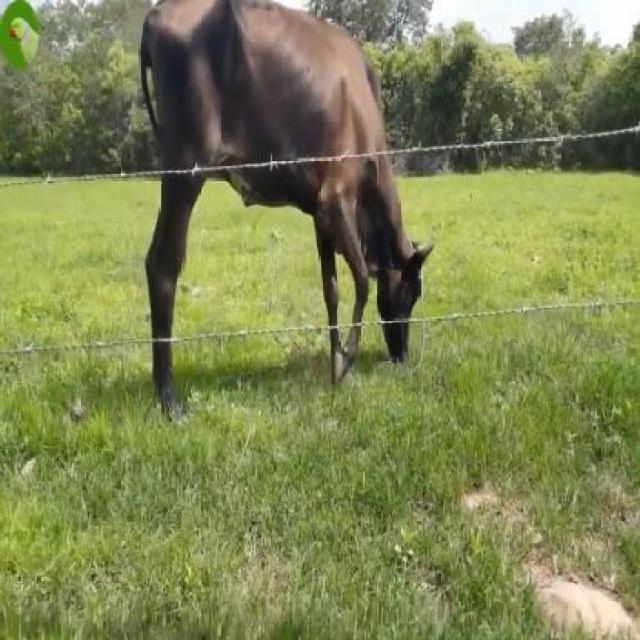Cow: (140, 0, 434, 414)
